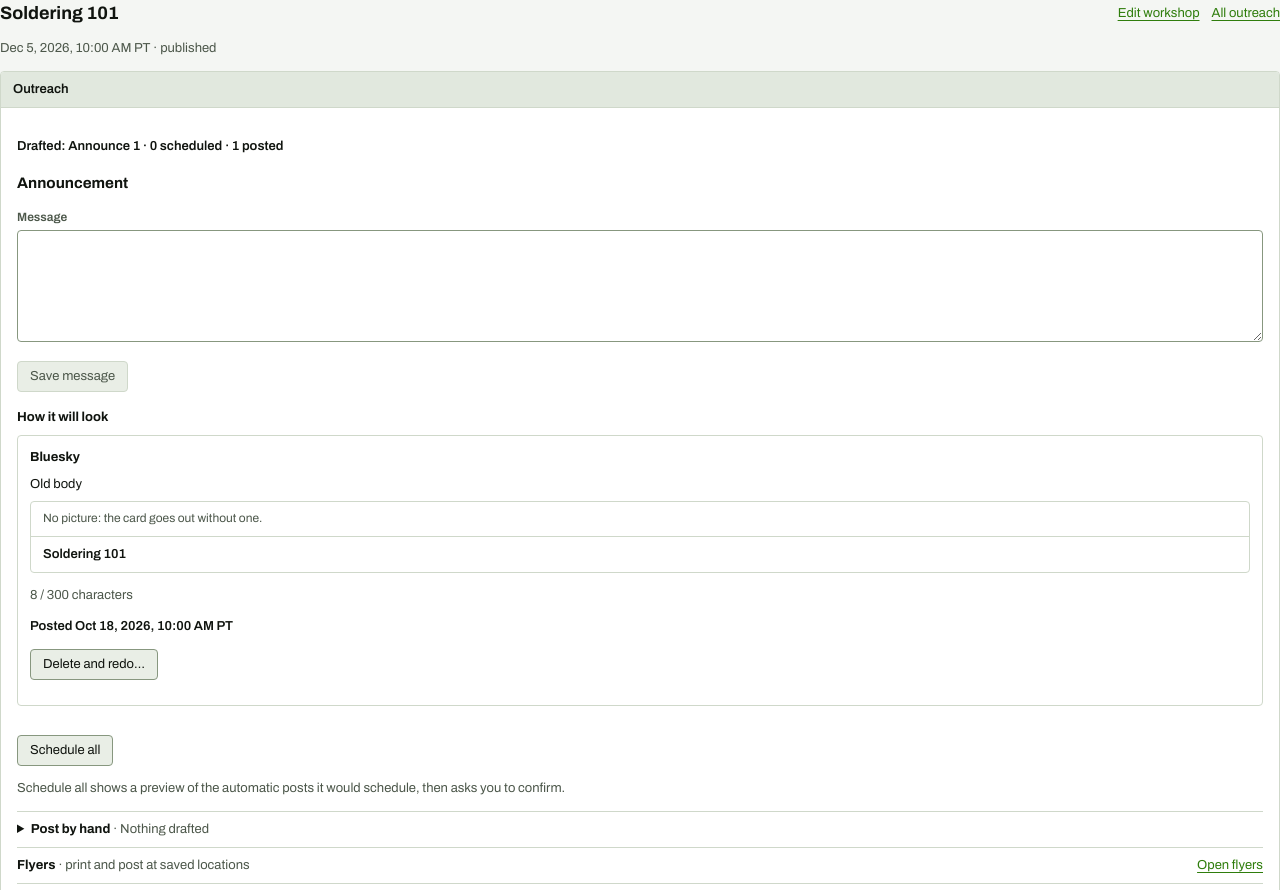
Test: OutreachWorkshop: Delete and redo (#0606) › a posted Bluesky post in the announcement offers Delete and redo, and confirming takes it down and reloads
Click the button "Delete and redo…" at [94, 665], box [30,649,158,680]
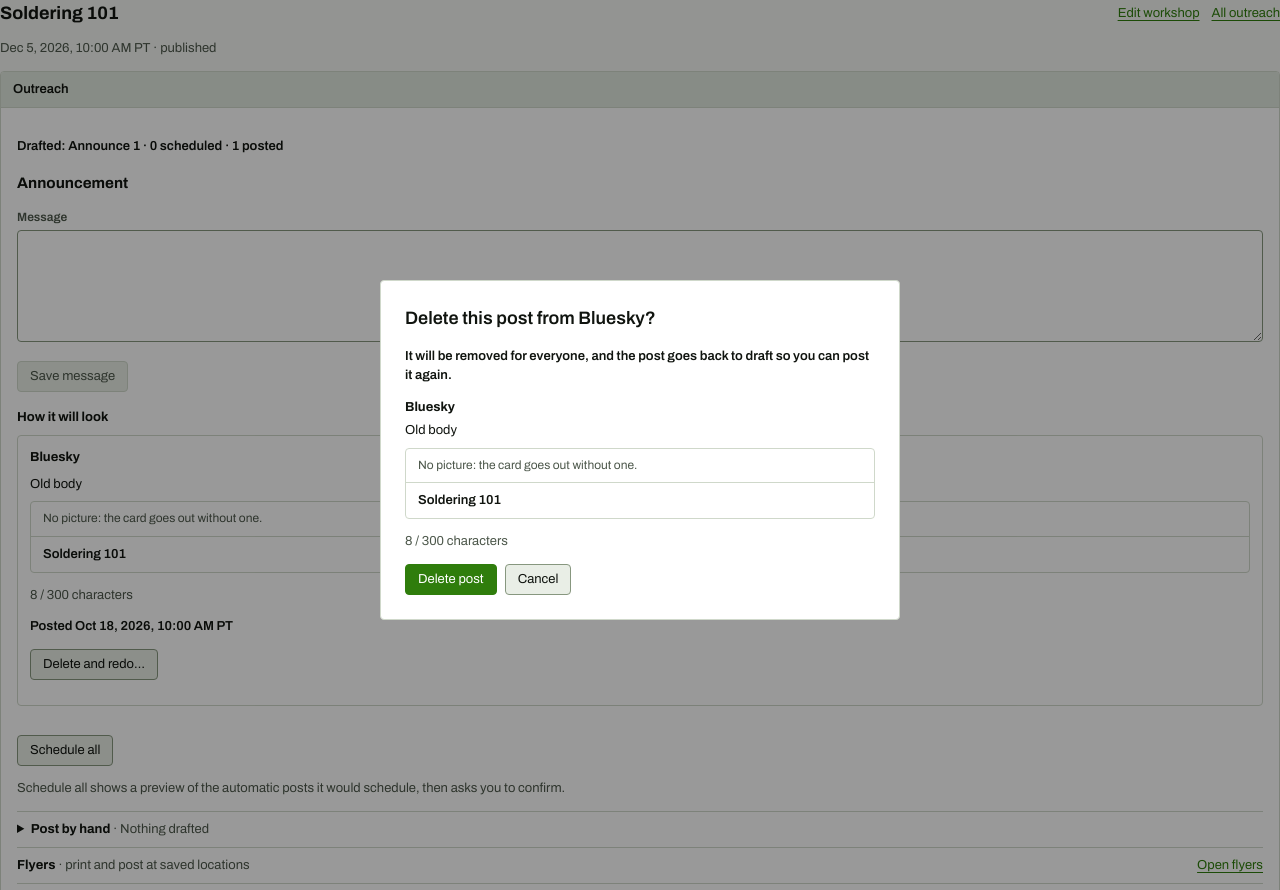
Now the dialog shows "Delete this post from Bluesky?", box [405,308,656,328]
Click the button "Delete post" at [451, 579], box [405,564,497,595]
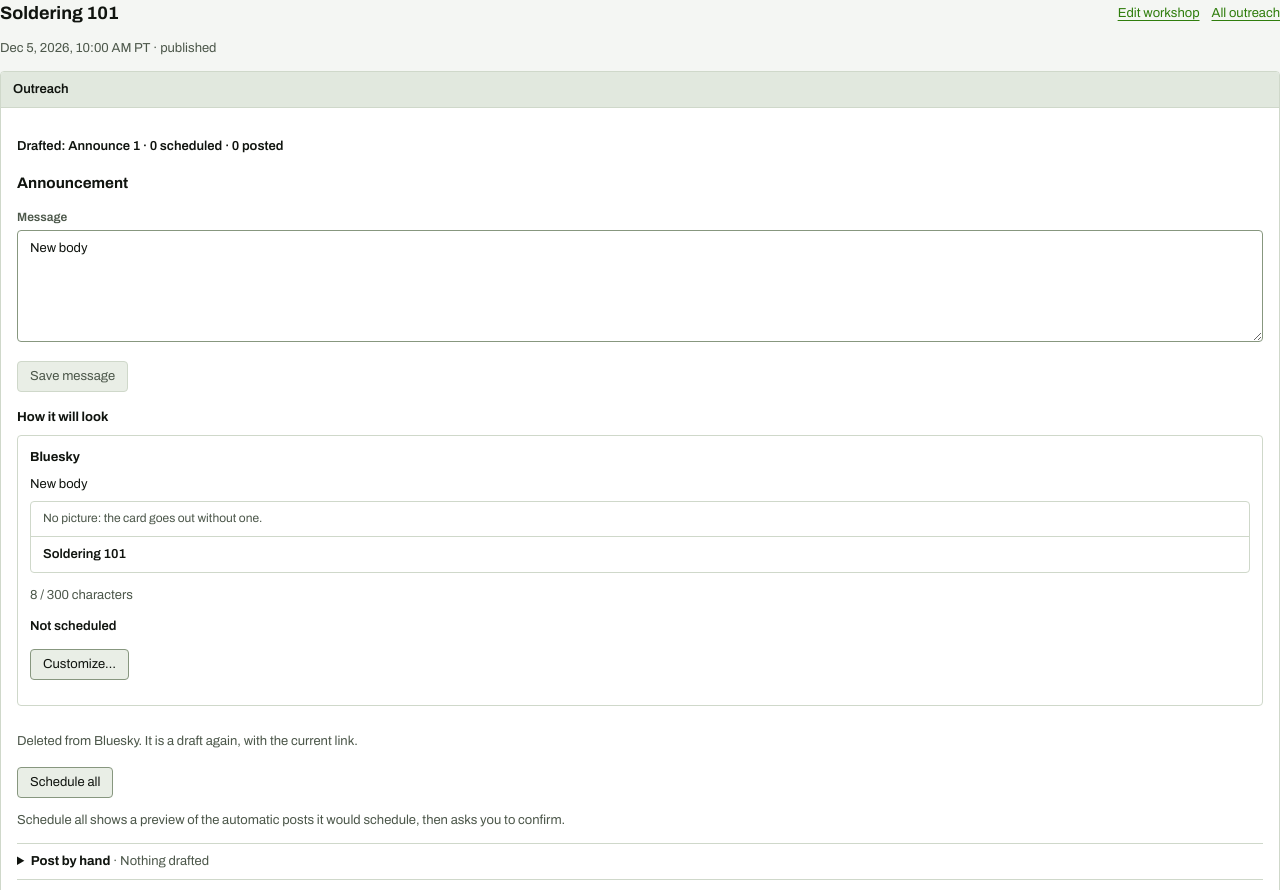
Now the dialog is gone
Now the button "Delete and redo…" is gone
